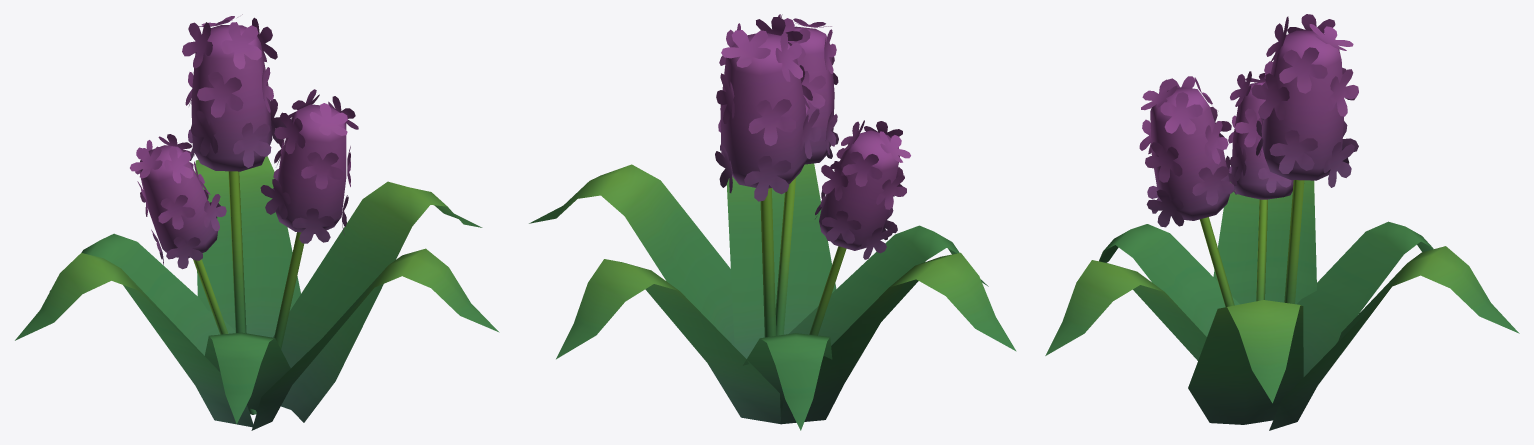
The model's file is flower_026_base_material_0.fbx.
The picture shows the model from 3 angles, left to right: view 1: azimuth 30°, elevation 25°; view 2: azimuth 150°, elevation 25°; view 3: azimuth 270°, elevation 25°; orthographic projection. The views are drawn at different scales.
Parts seen in each view (by area): view 1: flower_026_base_material_0; view 2: flower_026_base_material_0; view 3: flower_026_base_material_0.
Boxes of the visible parts, x1,y1,x2,y2 form: flower_026_base_material_0: (15,14,499,430); flower_026_base_material_0: (529,14,1016,430); flower_026_base_material_0: (1045,14,1519,430).
Bounding box in the file's own units: 3.46 × 2.99 × 2.71.
1 material, 1 textured.
